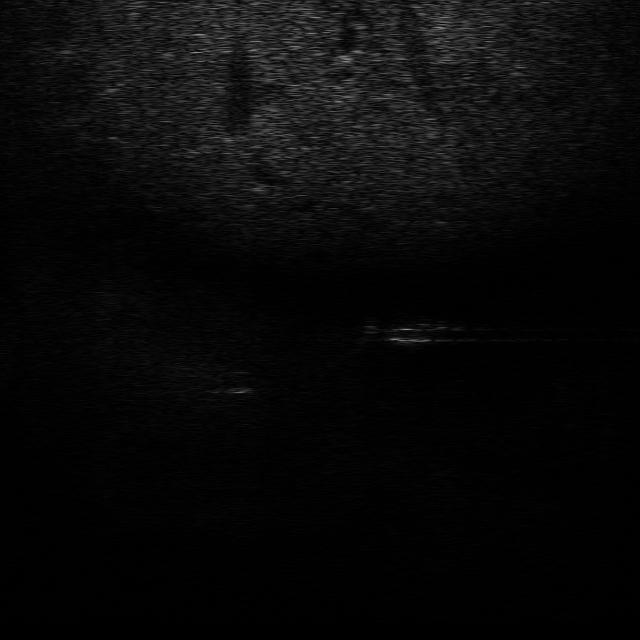ball: (208, 366, 254, 396)
human body: (350, 314, 454, 354)
